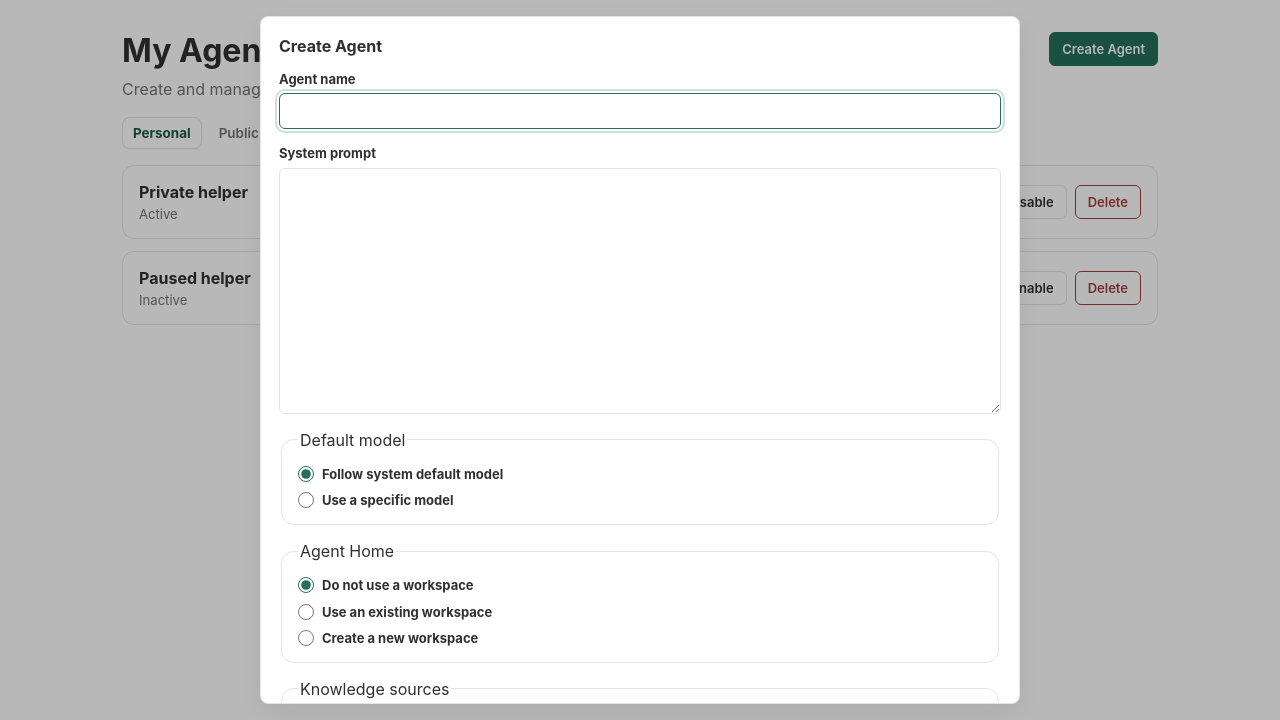
Test: AgentManagementPage › clears the private create query only after a successful initial creation
The image size is (1280, 720).
Type "Query helper" into the field labelled "Agent name" at {"x": 640, "y": 111}, box [279,93,1001,129]
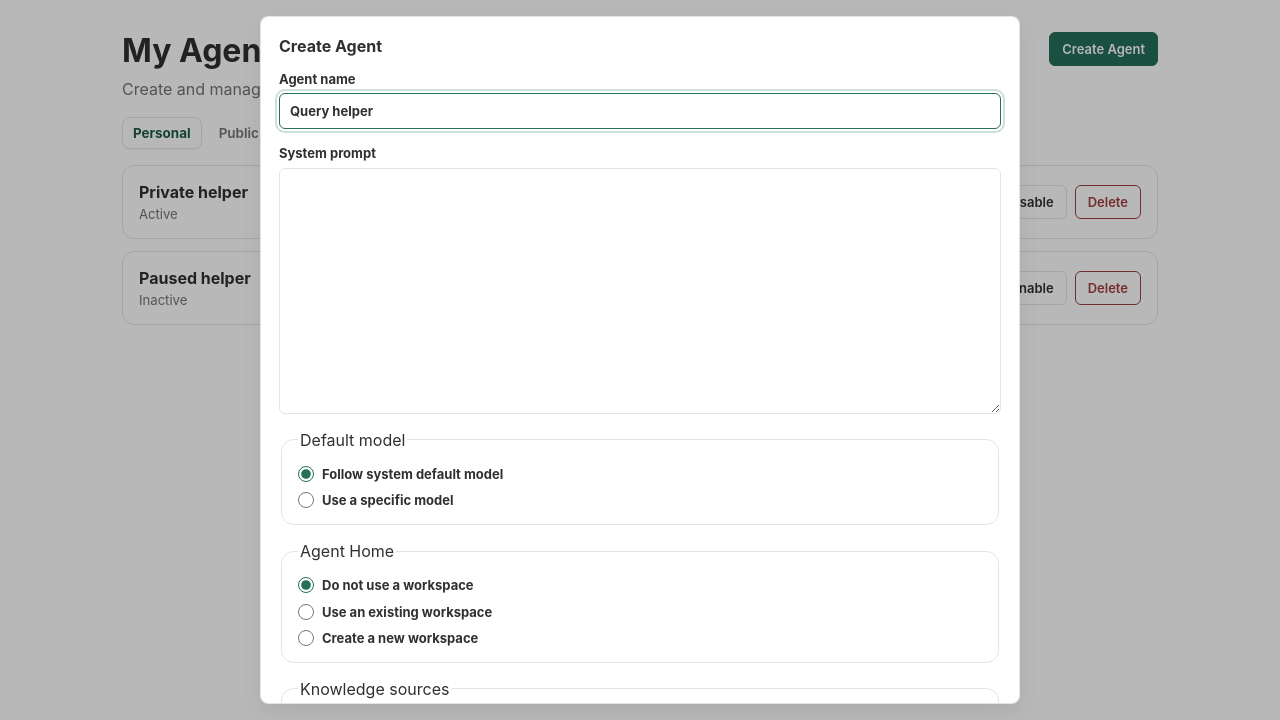
Type "Answer clearly." into the text box labelled "System prompt" at {"x": 640, "y": 291}, box [279,168,1001,414]
(page scrolled)
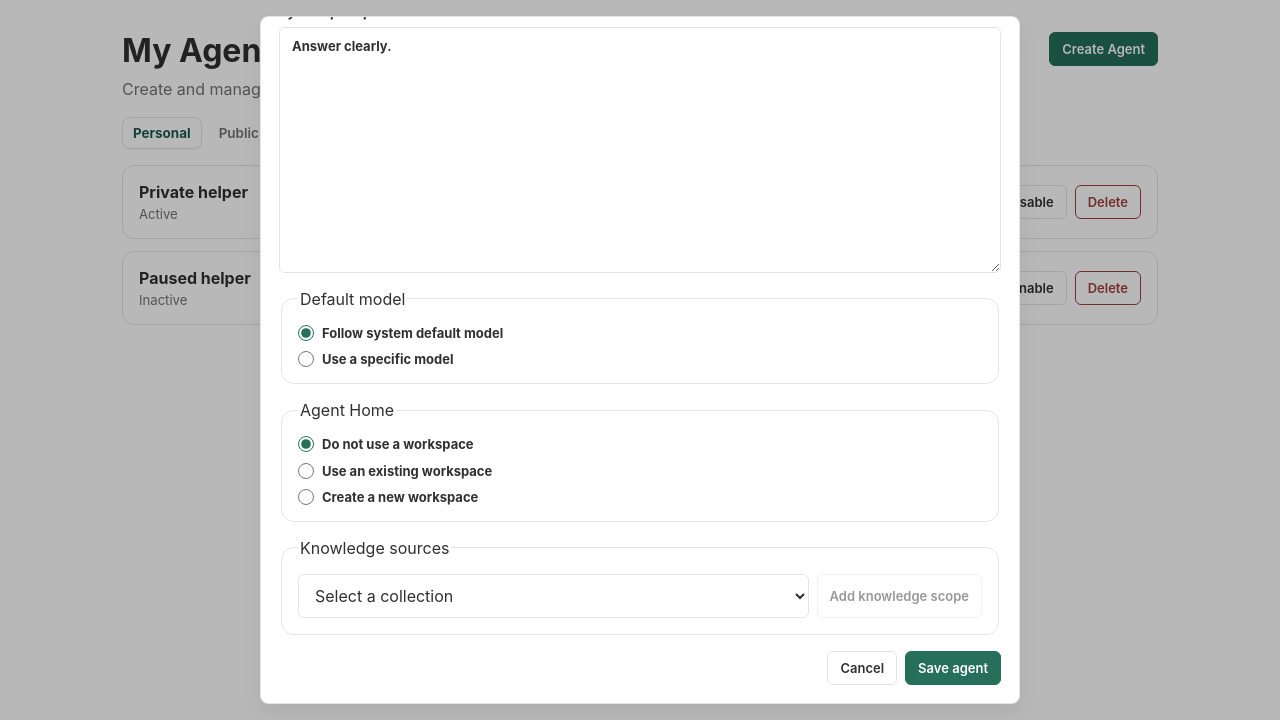
Click the button "Save agent" at {"x": 953, "y": 668}, box [905,651,1001,685]
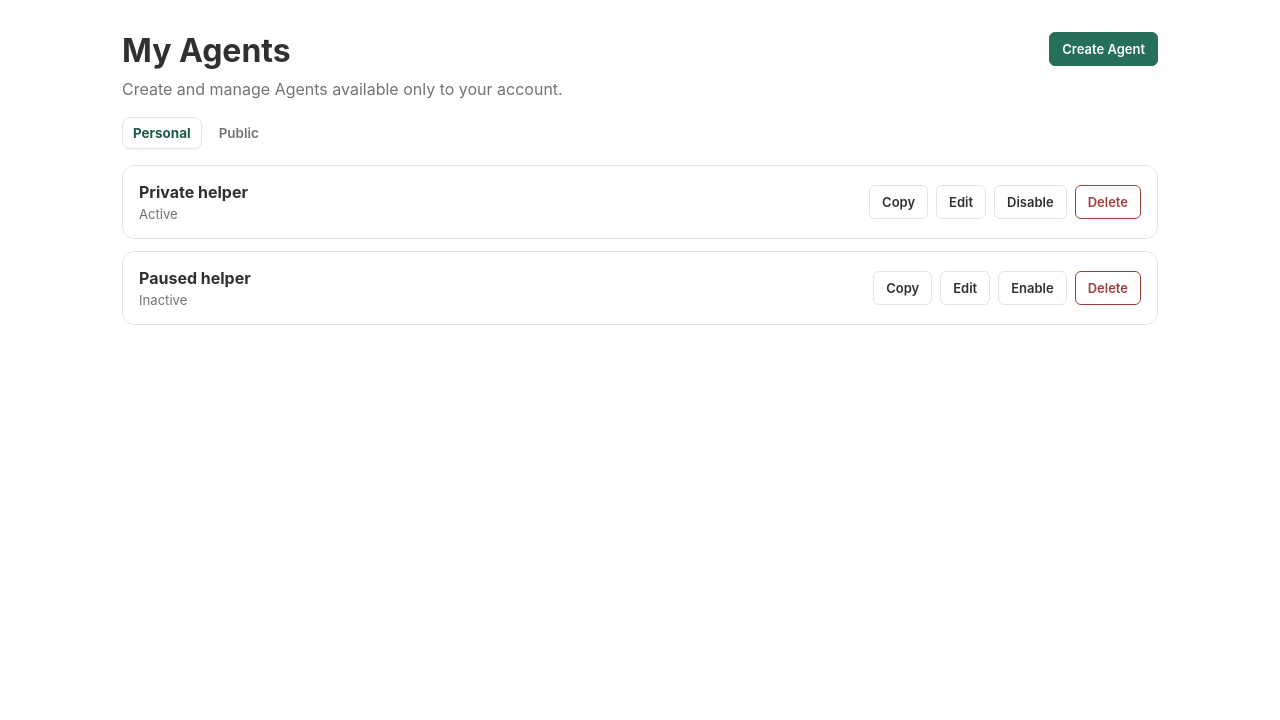
Now the dialog is gone
